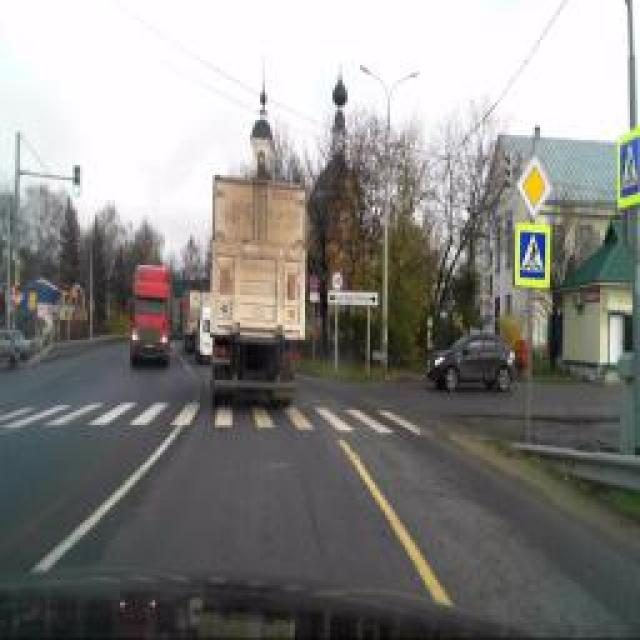sign: (331, 271, 344, 291), (308, 272, 320, 292)
